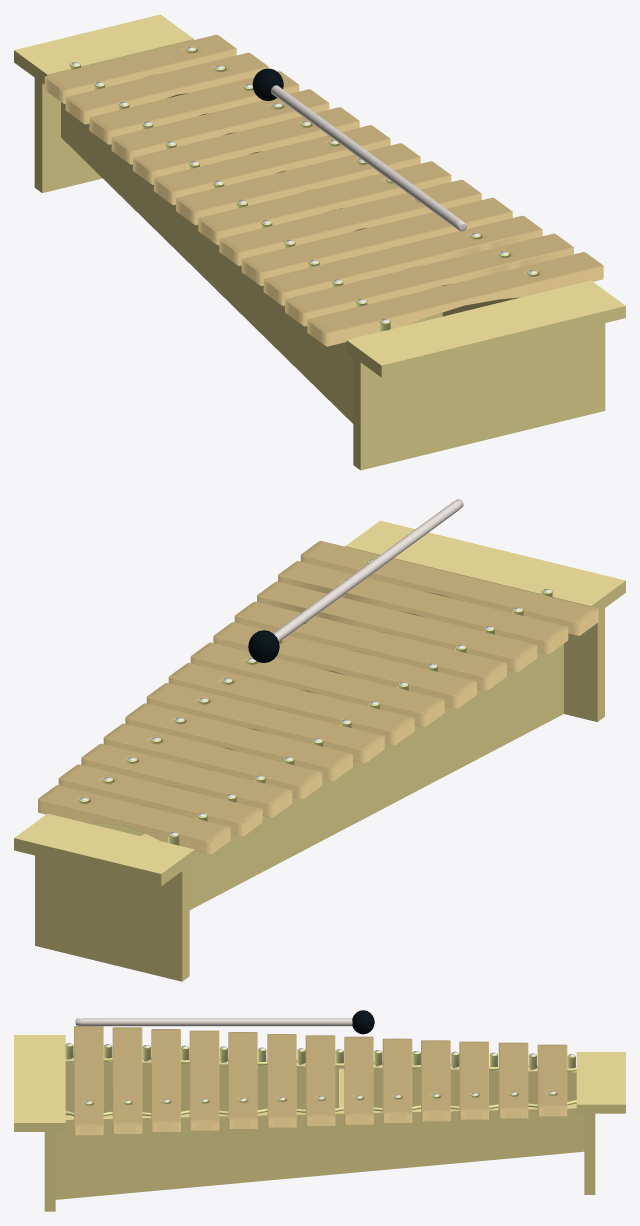
Rendered from xilofone.fbx.
The picture shows the model from 3 angles, top to bottom: view 1: azimuth 30°, elevation 25°; view 2: azimuth 150°, elevation 25°; view 3: azimuth 270°, elevation 25°; orthographic projection. The views are drawn at different scales.
Parts seen in each view (by area): view 1: Xilofone, Baqueta; view 2: Xilofone, Baqueta; view 3: Xilofone, Baqueta.
Boxes of the visible parts, x1=… form: Xilofone: x1=14, y1=14, x2=625, y2=470; Baqueta: x1=252, y1=68, x2=466, y2=231; Xilofone: x1=14, y1=520, x2=625, y2=981; Baqueta: x1=248, y1=499, x2=463, y2=662; Xilofone: x1=14, y1=1026, x2=625, y2=1211; Baqueta: x1=75, y1=1010, x2=374, y2=1034.
Size of the model in its own units: 151 by 111 by 389.
